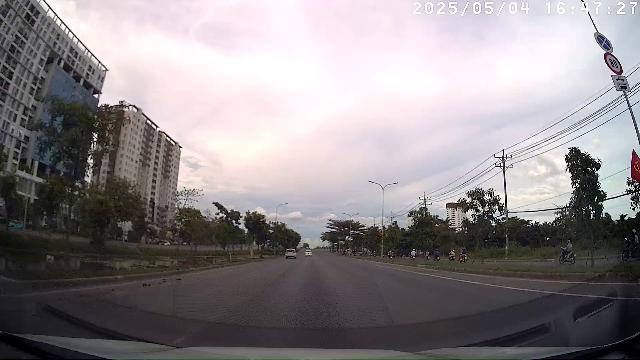127-toc-do-toi-da-80: (604, 52, 624, 74)
